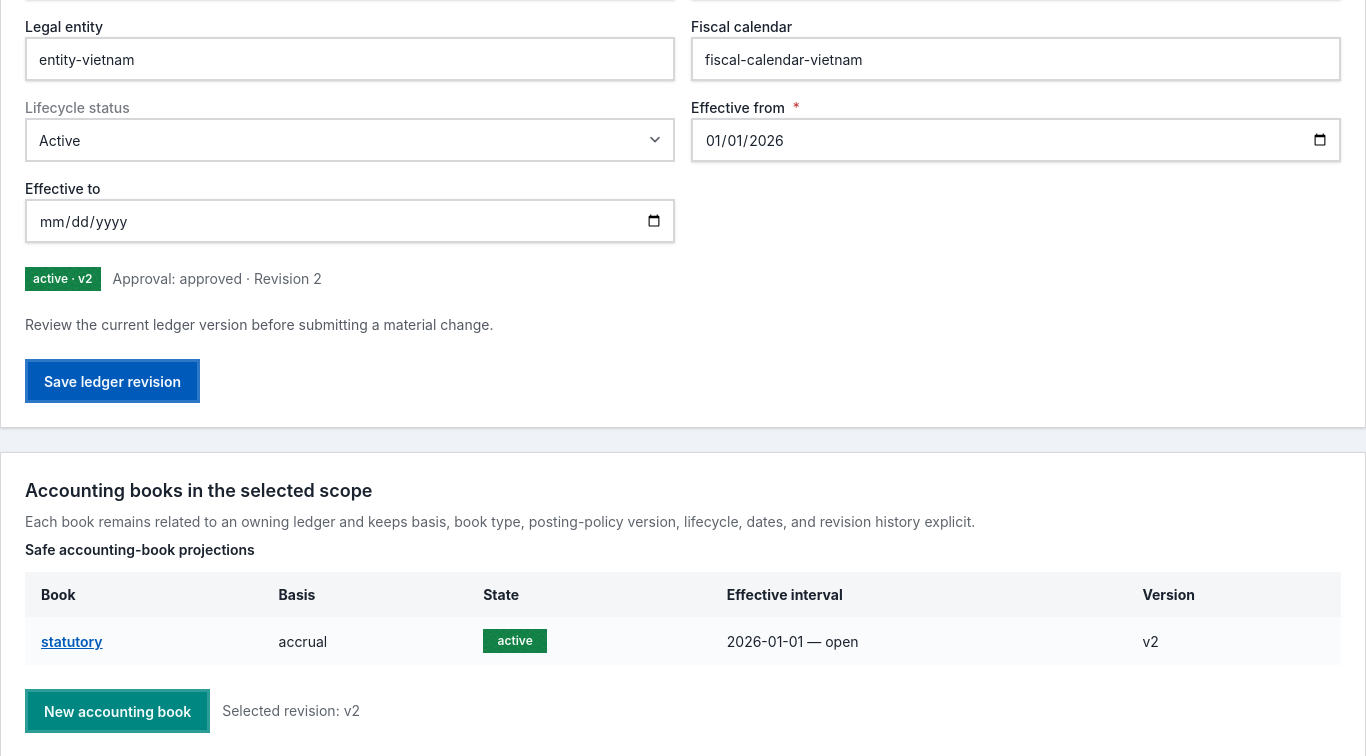
Test: GL ledger and accounting-book workspace › submits typed live commands and refreshes safe projections from the result
(page scrolled)
Click the button "Save ledger revision" at (113, 381), box top-left (25, 359), bottom-right (200, 403)
(page scrolled)
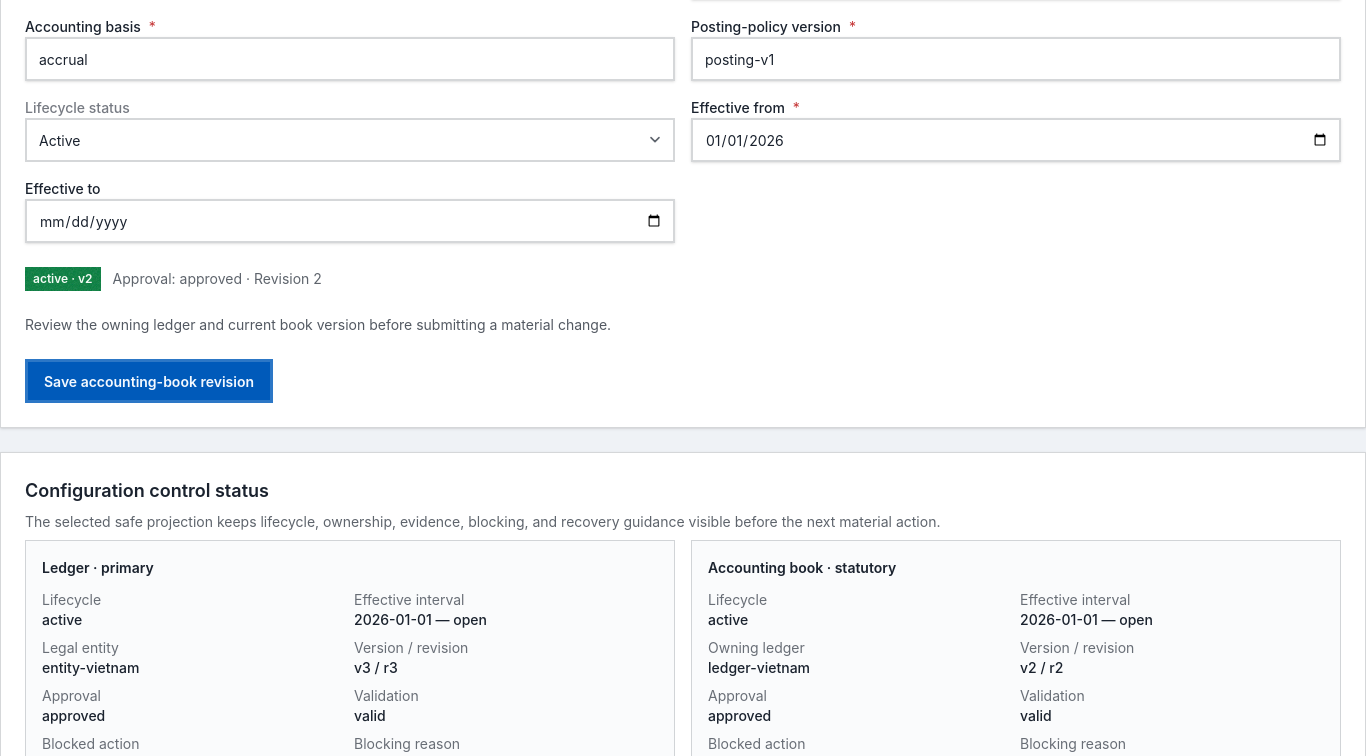
Click the button "Save accounting-book revision" at (149, 381), box top-left (25, 359), bottom-right (273, 403)
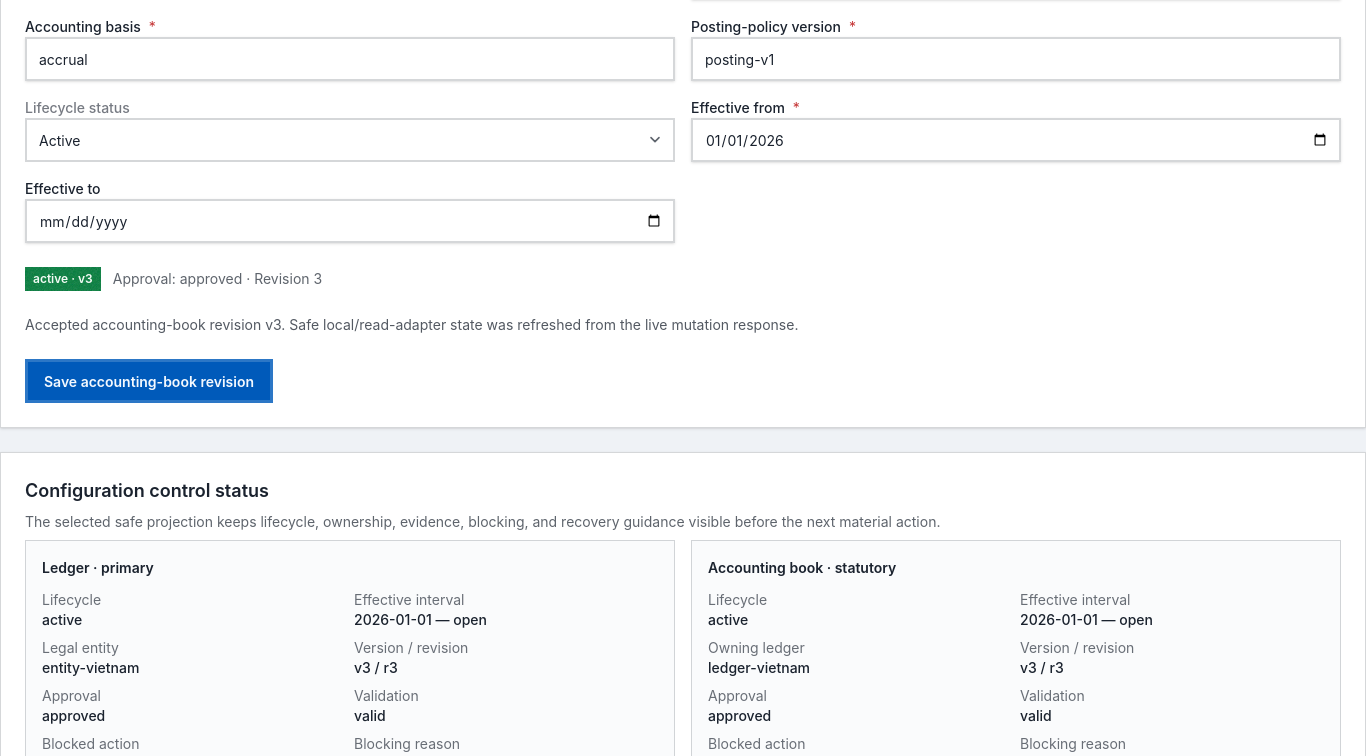
Check: the text "Accepted accounting-book revision v3" is shown, box top-left (25, 316), bottom-right (798, 333)
